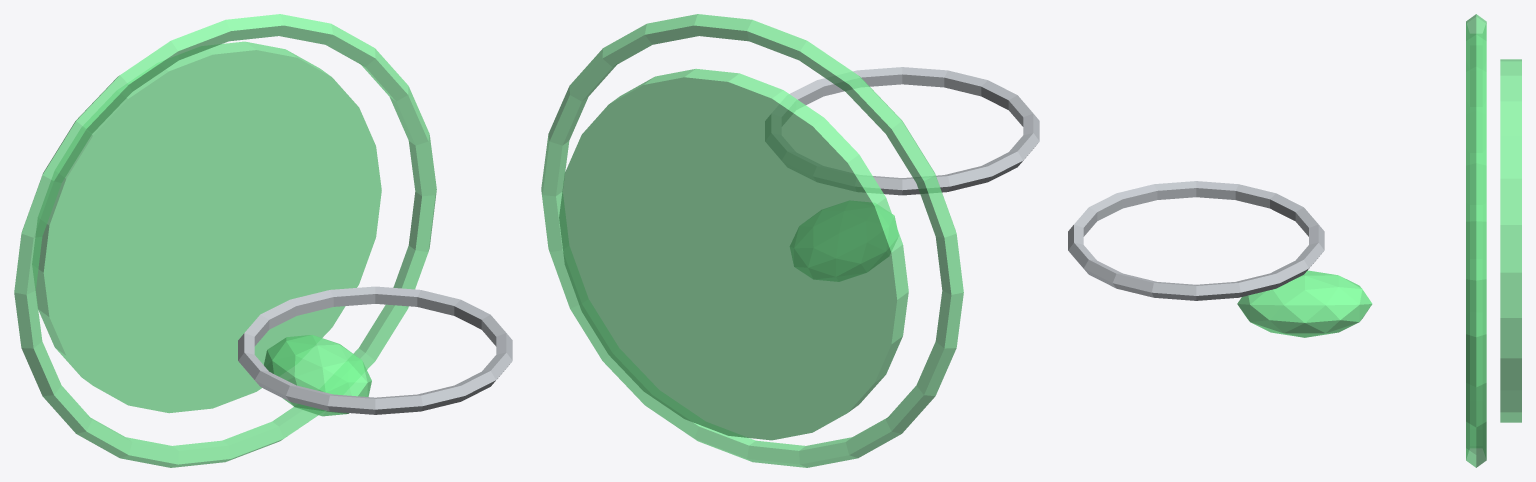
Rendered from accessory_pickup_amulet_uncommon.glb.
3 renders of one model, left to right at view 1: azimuth 30°, elevation 25°; view 2: azimuth 150°, elevation 25°; view 3: azimuth 270°, elevation 25°, orthographic. The views are drawn at different scales.
Visible parts, largest first — view 1: rarity_base_disc, rarity_orbit_ring, chain, gem; view 2: rarity_base_disc, rarity_orbit_ring, chain, gem; view 3: chain, rarity_orbit_ring, rarity_base_disc, gem.
Part boxes in pixels (x1,y1,x2,y2): rarity_base_disc: (32,41,381,413); rarity_orbit_ring: (14,14,436,467); chain: (238,286,512,414); gem: (264,335,371,416); rarity_base_disc: (559,68,908,440); rarity_orbit_ring: (541,14,963,467); chain: (765,67,1039,195); gem: (790,201,898,281); chain: (1068,181,1324,300); rarity_orbit_ring: (1466,14,1486,467); rarity_base_disc: (1500,59,1521,422); gem: (1237,270,1372,337).
Size of the model in its own units: 1.05 by 1.05 by 1.05.
